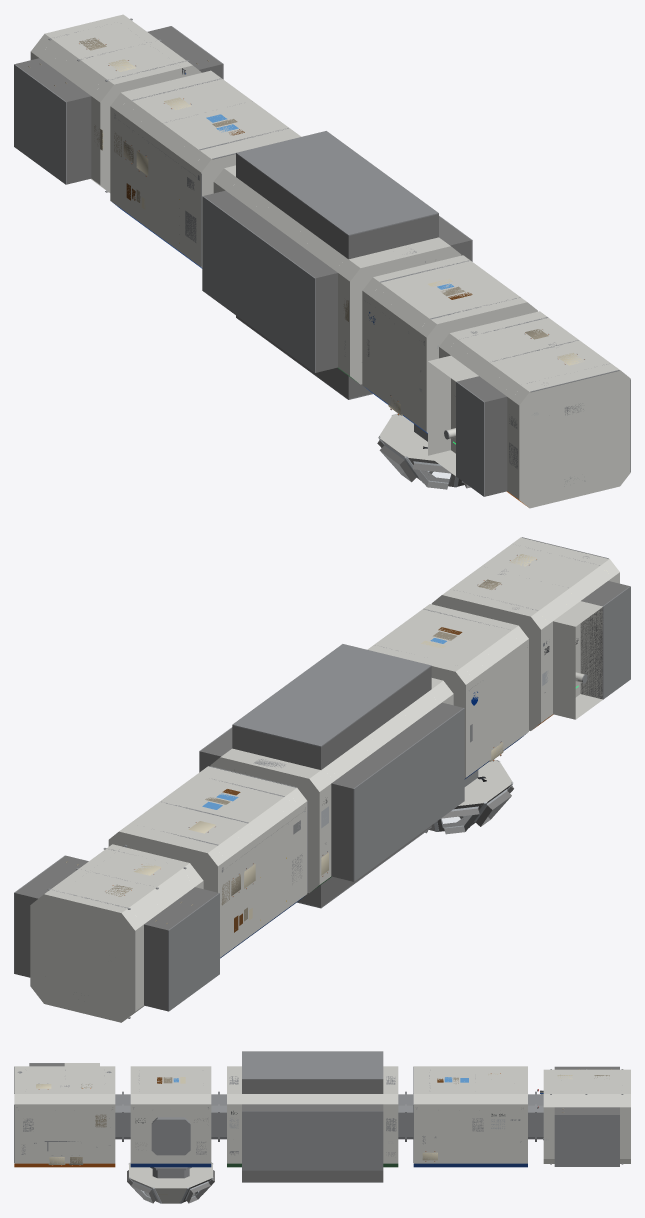
File: Layout_Estacion_Completa.fbx
The picture shows the model from 3 angles, top to bottom: view 1: azimuth 30°, elevation 25°; view 2: azimuth 150°, elevation 25°; view 3: azimuth 270°, elevation 25°; orthographic projection. The views are drawn at different scales.
Visible parts, largest first — view 1: T_Casco_Tacuarembo, C_Casco_Colonia, N_Casco_Nodo, C_Casco_Carguero, R_Casco, C_Bahia_B, T_Rack_TAC-B1, R_Rack_RIV-B1, R_Rack_RIV-T1, R_Rack_RIV-B2, R_Rack_RIV-B3, R_Rack_RIV-B4 (+9 smaller); view 2: C_Casco_Colonia, C_Casco_Carguero, N_Casco_Nodo, T_Casco_Tacuarembo, C_Bahia_B, R_Casco, R_Rack_RIV-B4, R_Rack_RIV-T4, T_Rack_TAC-B2, T_Rack_TAC-B1, R_Rack_RIV-B3, R_Rack_RIV-B1 (+9 smaller); view 3: C_Casco_Colonia, T_Casco_Tacuarembo, N_Casco_Nodo, R_Casco, C_Casco_Carguero, C_Bahia_E, F_Casco_Cupula, R_Rack_RIV-E1, R_Rack_RIV-E2, R_Rack_RIV-E3, R_Rack_RIV-E4, R_Rack_RIV-T1 (+12 smaller).
Part boxes in pixels (x1,y1,x2,y2): T_Casco_Tacuarembo: (439, 311, 630, 508); C_Casco_Colonia: (110, 70, 301, 268); N_Casco_Nodo: (362, 255, 537, 433); C_Casco_Carguero: (30, 14, 201, 192); R_Casco: (213, 165, 461, 384); C_Bahia_B: (14, 58, 91, 184); T_Rack_TAC-B1: (456, 376, 507, 496); R_Rack_RIV-B1: (286, 252, 337, 372); R_Rack_RIV-T1: (320, 192, 438, 259); R_Rack_RIV-B2: (258, 231, 309, 351); R_Rack_RIV-B3: (230, 211, 281, 331); R_Rack_RIV-B4: (202, 190, 253, 310); C_Casco_Colonia: (108, 766, 307, 958); C_Casco_Carguero: (30, 844, 203, 1022); N_Casco_Nodo: (367, 604, 528, 779); T_Casco_Tacuarembo: (431, 537, 619, 730); C_Bahia_B: (144, 887, 219, 1011); R_Casco: (210, 678, 453, 893); R_Rack_RIV-B4: (331, 763, 381, 881); R_Rack_RIV-T4: (232, 704, 348, 769); T_Rack_TAC-B2: (553, 601, 603, 719); T_Rack_TAC-B1: (580, 581, 630, 699); R_Rack_RIV-B3: (359, 743, 409, 861); R_Rack_RIV-B1: (414, 702, 464, 820); C_Casco_Colonia: (407, 1066, 534, 1167); T_Casco_Tacuarembo: (14, 1066, 121, 1167); N_Casco_Nodo: (124, 1066, 217, 1167); R_Casco: (220, 1066, 404, 1167); C_Casco_Carguero: (537, 1069, 630, 1163); C_Bahia_E: (554, 1107, 619, 1166); F_Casco_Cupula: (127, 1162, 214, 1203); R_Rack_RIV-E1: (242, 1104, 277, 1170); R_Rack_RIV-E2: (277, 1104, 312, 1170); R_Rack_RIV-E3: (312, 1104, 347, 1170); R_Rack_RIV-E4: (348, 1104, 383, 1170); R_Rack_RIV-T1: (242, 1051, 277, 1093).
Size of the model in its own units: 3.4 by 4.37 by 18.35.
